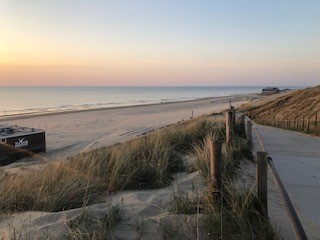pad: (247, 117, 320, 231)
